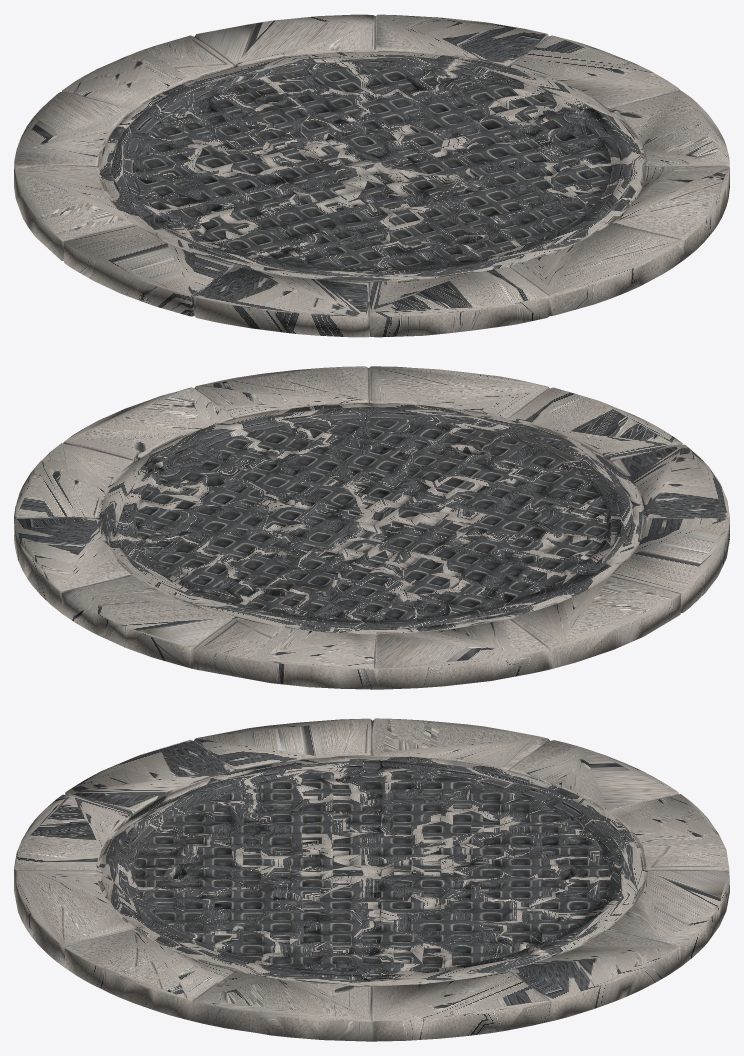
Rendered from grate.glb.
The picture shows the model from 3 angles, top to bottom: view 1: azimuth 30°, elevation 25°; view 2: azimuth 150°, elevation 25°; view 3: azimuth 270°, elevation 25°; orthographic projection.
Bounding box in the file's own units: 1.9 × 0.0639 × 1.9.
1 material, 1 textured.
